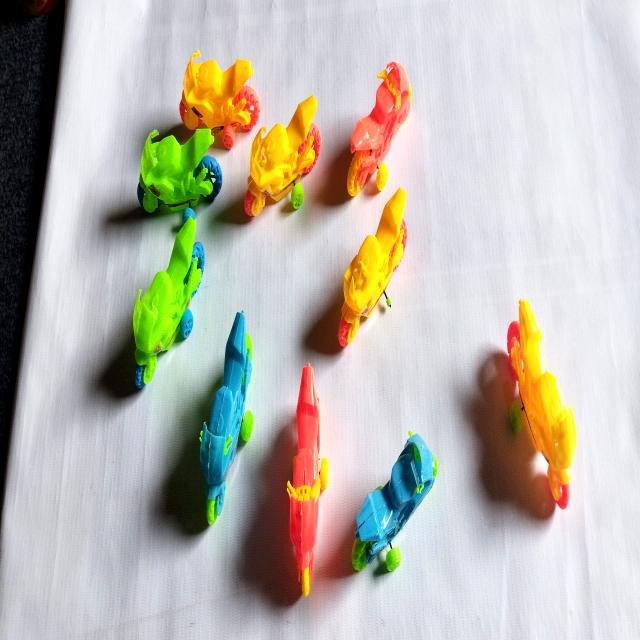bikes: (507, 299, 576, 509), (133, 213, 204, 387), (352, 433, 438, 571), (200, 311, 254, 524), (339, 188, 407, 347), (245, 96, 321, 216), (347, 61, 411, 196), (288, 363, 322, 595), (180, 51, 260, 149), (137, 129, 222, 212)
others: (17, 0, 58, 16)
